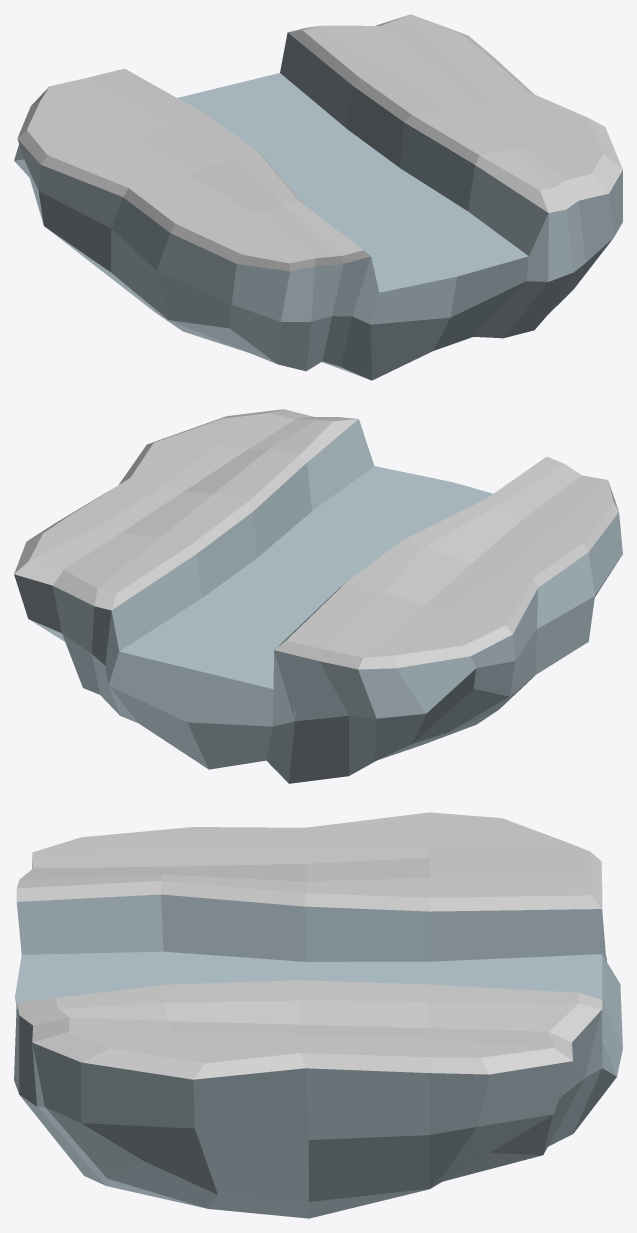
The model's file is Ice_IslandStraight2.fbx.
The picture shows the model from 3 angles, top to bottom: view 1: azimuth 30°, elevation 25°; view 2: azimuth 150°, elevation 25°; view 3: azimuth 270°, elevation 25°; orthographic projection. The views are drawn at different scales.
Parts seen in each view (by area): view 1: Ice_Island__Straight1; view 2: Ice_Island__Straight1; view 3: Ice_Island__Straight1.
Part boxes in pixels (x1,y1,x2,y2): Ice_Island__Straight1: (14,14,622,380); Ice_Island__Straight1: (14,409,622,783); Ice_Island__Straight1: (14,812,622,1218).
Size of the model in its own units: 478 by 191 by 468.
